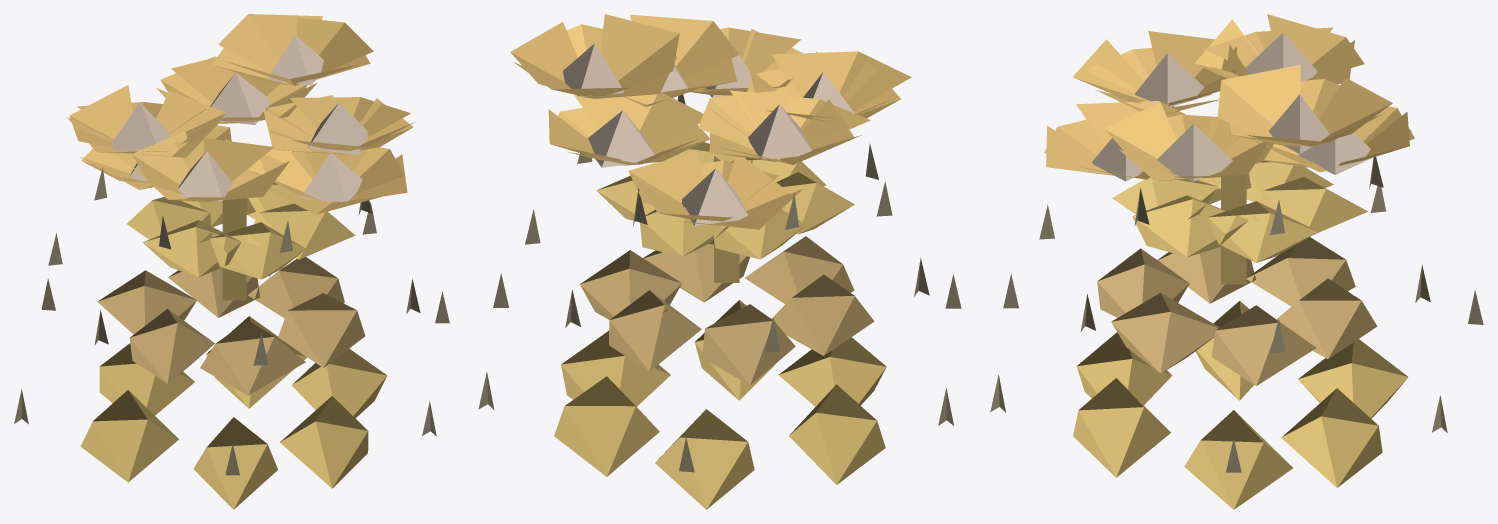
File: cao.shamo@flowering__autumn.glb
3 views of the same model, side by side, from view 1: azimuth 30°, elevation 25°; view 2: azimuth 150°, elevation 25°; view 3: azimuth 270°, elevation 25° (orthographic). The views are drawn at different scales.
Visible parts, largest first — view 1: cao.shamo@flowering__autumn; view 2: cao.shamo@flowering__autumn; view 3: cao.shamo@flowering__autumn.
Boxes of the visible parts, x1,y1,x2,y2 form: cao.shamo@flowering__autumn: [14, 14, 449, 509]; cao.shamo@flowering__autumn: [478, 14, 961, 509]; cao.shamo@flowering__autumn: [990, 14, 1483, 509].
Bounding box in the file's own units: 1.8 × 1.52 × 1.66.
